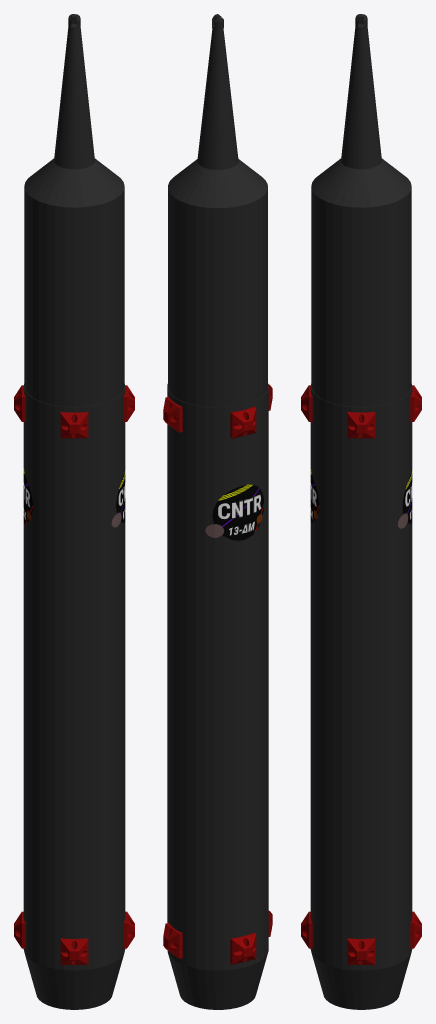
Rendered from kinetic_missile.fbx.
The picture shows the model from 3 angles, left to right: view 1: azimuth 90°, elevation 25°; view 2: azimuth 210°, elevation 25°; view 3: azimuth 270°, elevation 25°; orthographic projection.
Visible parts, largest first — view 1: missile, left_fairing, rcs_thruster.000, rcs_thruster.007, rcs_thruster.004, rcs_thruster.005, rcs_thruster.002, rcs_thruster.003; view 2: missile, right_fairing, left_fairing, rcs_thruster.005, rcs_thruster.002, rcs_thruster.001, rcs_thruster.006; view 3: missile, right_fairing, rcs_thruster.001, rcs_thruster.006, rcs_thruster.004, rcs_thruster.005, rcs_thruster.002, rcs_thruster.003.
Part boxes in pixels (x1,y1,x2,y2): missile: [23, 384, 125, 1009]; left_fairing: [24, 27, 124, 406]; rcs_thruster.000: [60, 411, 88, 438]; rcs_thruster.007: [60, 938, 88, 964]; rcs_thruster.004: [123, 911, 134, 948]; rcs_thruster.005: [14, 911, 25, 948]; rcs_thruster.002: [14, 385, 25, 421]; rcs_thruster.003: [123, 385, 134, 421]; missile: [167, 383, 268, 1009]; right_fairing: [168, 28, 242, 407]; left_fairing: [220, 28, 267, 404]; rcs_thruster.005: [230, 932, 256, 964]; rcs_thruster.002: [230, 406, 256, 438]; rcs_thruster.001: [163, 396, 182, 432]; rcs_thruster.006: [163, 923, 182, 958]; missile: [310, 384, 412, 1009]; right_fairing: [311, 27, 411, 406]; rcs_thruster.001: [347, 411, 375, 438]; rcs_thruster.006: [347, 938, 375, 964]; rcs_thruster.004: [301, 911, 312, 948]; rcs_thruster.005: [410, 911, 421, 948]; rcs_thruster.002: [410, 385, 421, 421]; rcs_thruster.003: [301, 385, 312, 421].
Bounding box in the file's own units: 0.4764 × 4.26 × 0.4764.
Materials: 4 (2 with a texture image).
